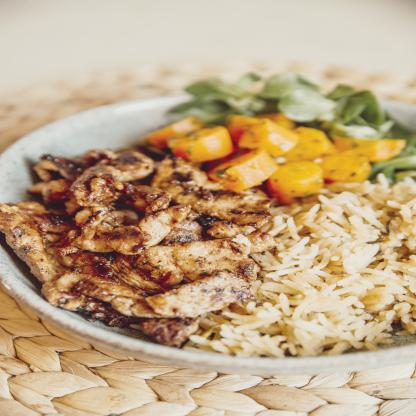Carne: (68, 146, 151, 226), (0, 202, 76, 285), (101, 271, 237, 317), (134, 232, 250, 277), (172, 187, 280, 230), (72, 222, 169, 254), (132, 172, 185, 218)
